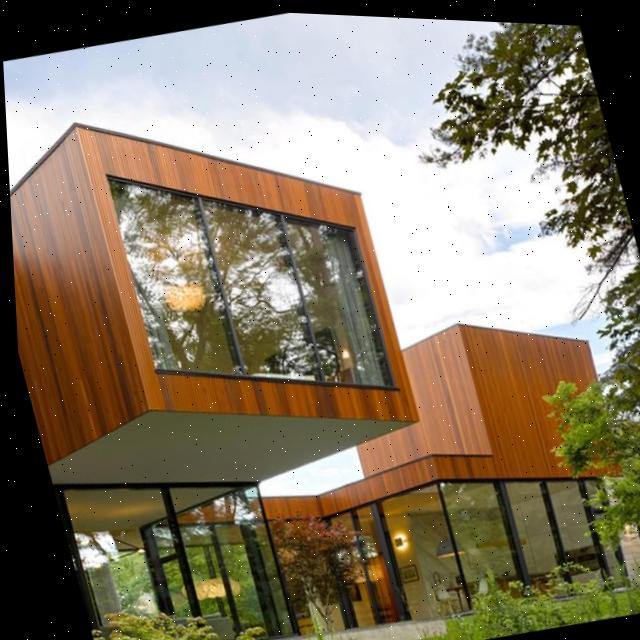building: (1, 22, 640, 640)
